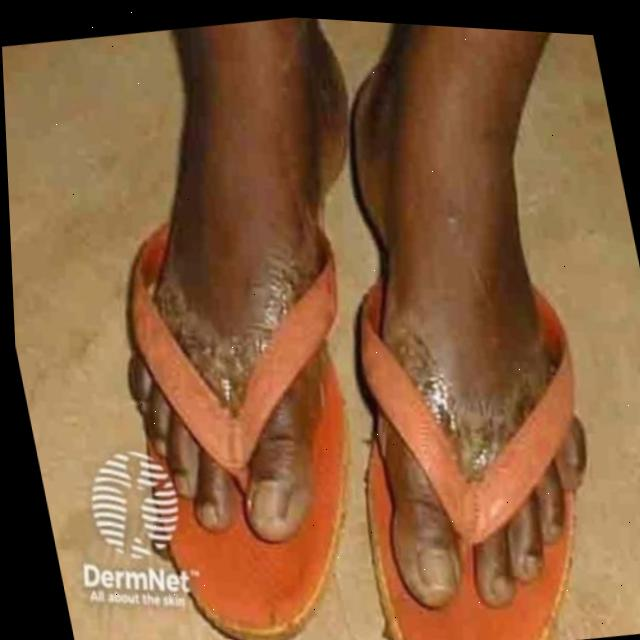Eczema: (155, 224, 552, 523)
